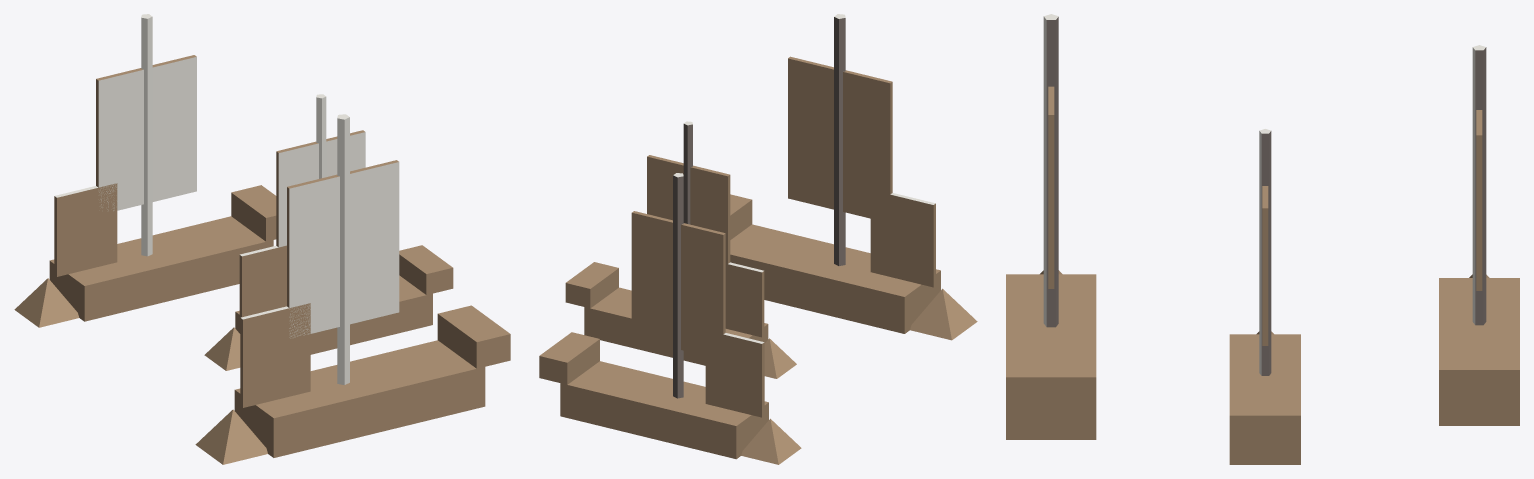
Rendered from fleet.glb.
The picture shows the model from 3 angles, left to right: view 1: azimuth 30°, elevation 25°; view 2: azimuth 150°, elevation 25°; view 3: azimuth 270°, elevation 25°; orthographic projection. The views are drawn at different scales.
Visible parts, largest first — view 1: fleet; view 2: fleet; view 3: fleet.
Boxes of the visible parts, x1=… form: fleet: x1=14, y1=14, x2=510, y2=464; fleet: x1=539, y1=14, x2=977, y2=464; fleet: x1=1006, y1=14, x2=1519, y2=464.
Size of the model in its own units: 0.7212 by 0.6555 by 0.864.
